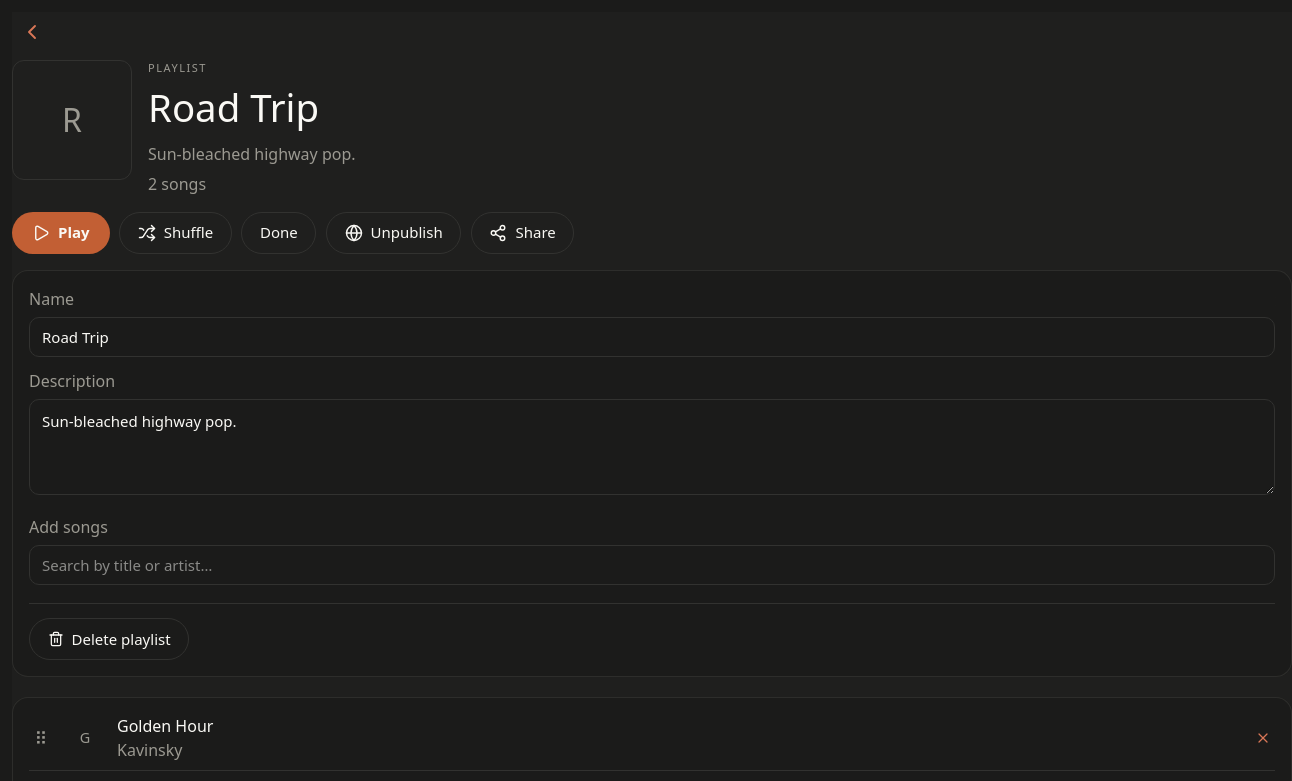
Test case: PlaylistPageView delete flow › when the confirmation is cancelled, then the destructive button returns to its resting state
The image size is (1292, 781).
Click the button "Delete playlist": (109, 639) [29,618,189,660]
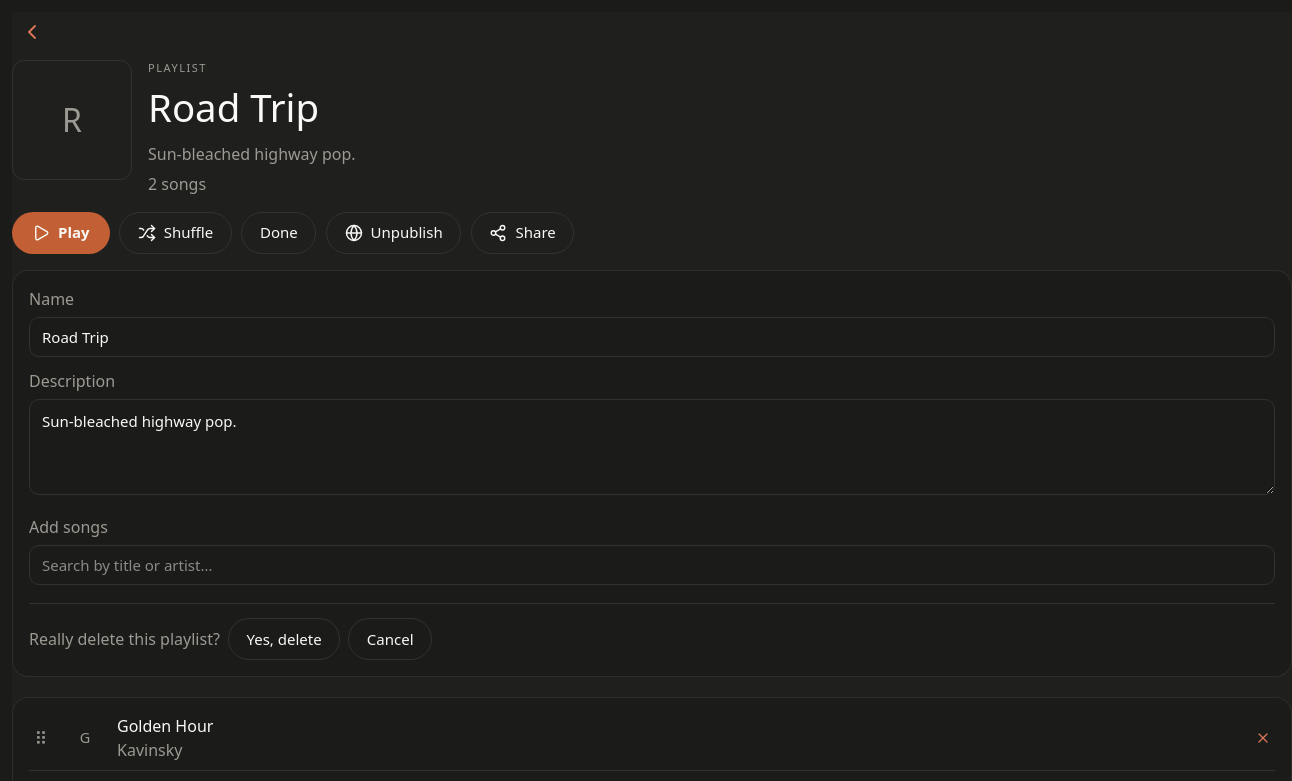
Click the button "Cancel": (390, 639) [348,618,432,660]
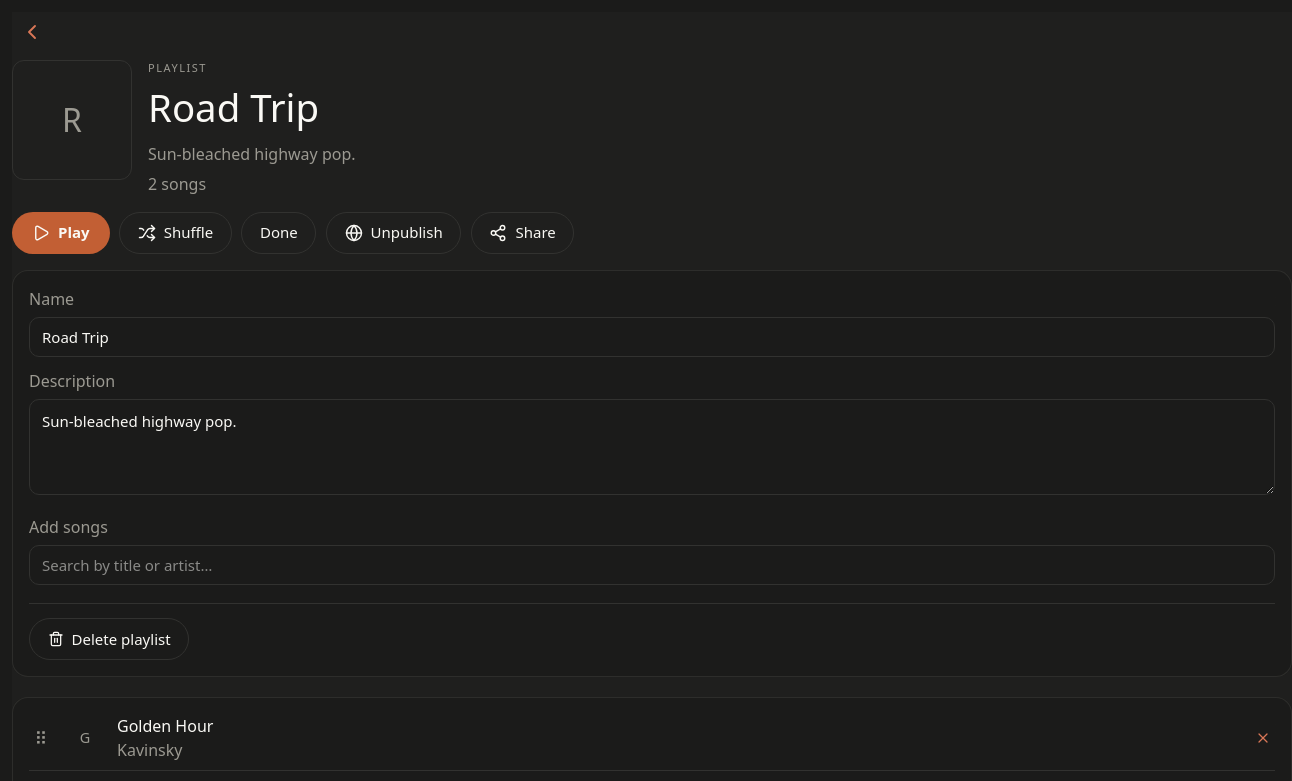
Expected: the text "Really delete this playlist?" is gone
Expected: the button "Delete playlist" is shown, [29,618,189,660]
